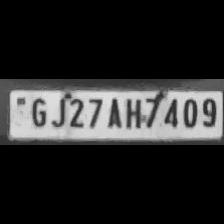0: (179, 96, 199, 128)
2: (65, 95, 85, 129)
4: (159, 95, 179, 129)
7: (83, 95, 103, 129), (141, 96, 159, 128)
9: (198, 96, 218, 128)
A: (103, 95, 123, 129)
G: (28, 94, 48, 128)
H: (123, 95, 143, 129)
J: (50, 94, 66, 128)
